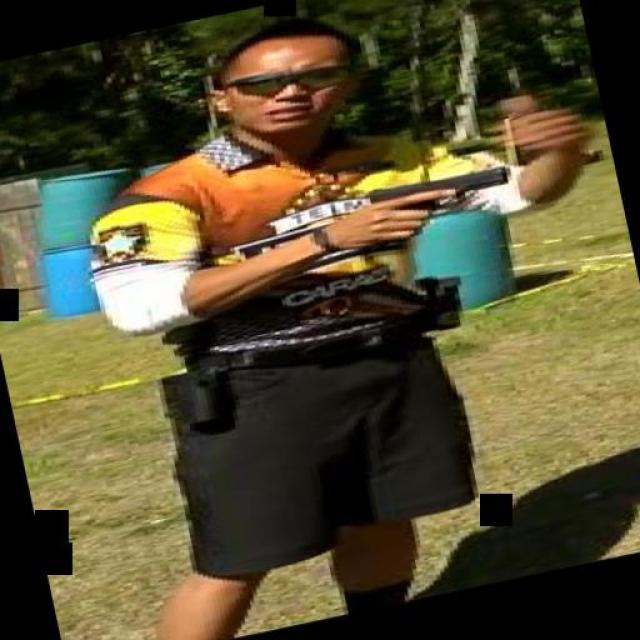gun: (345, 157, 525, 255)
